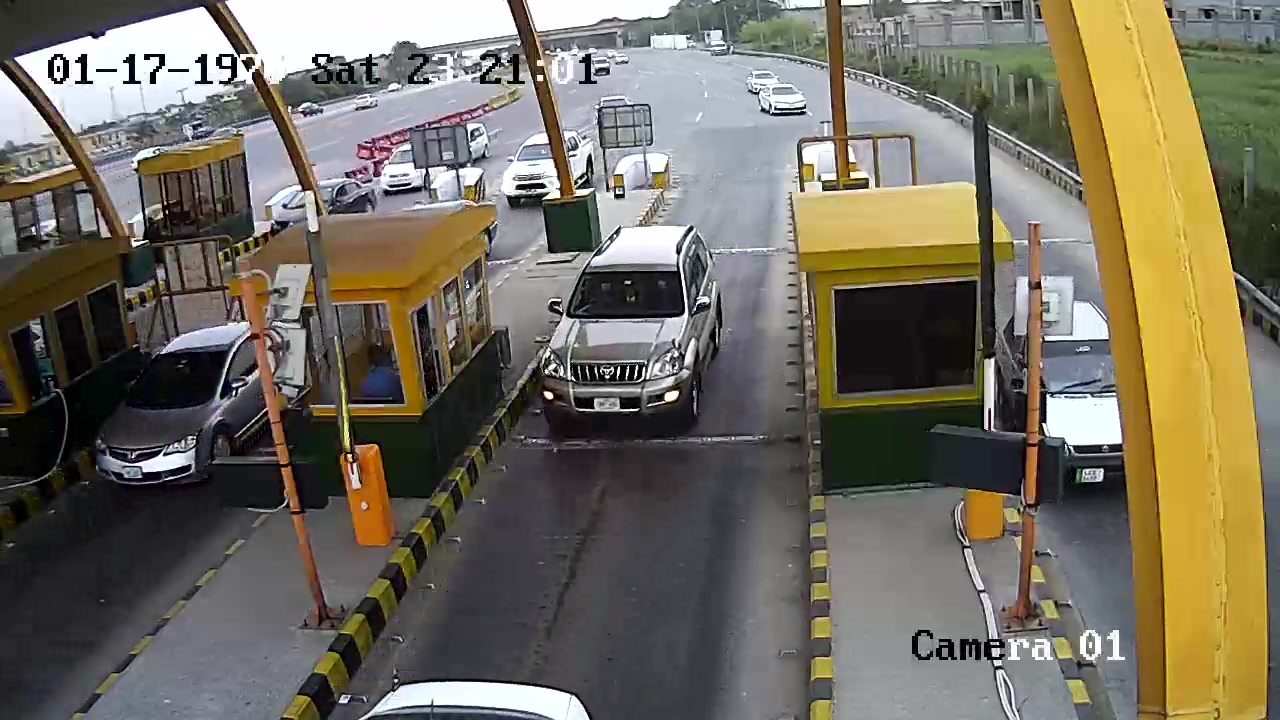F1: (539, 222, 733, 457)
